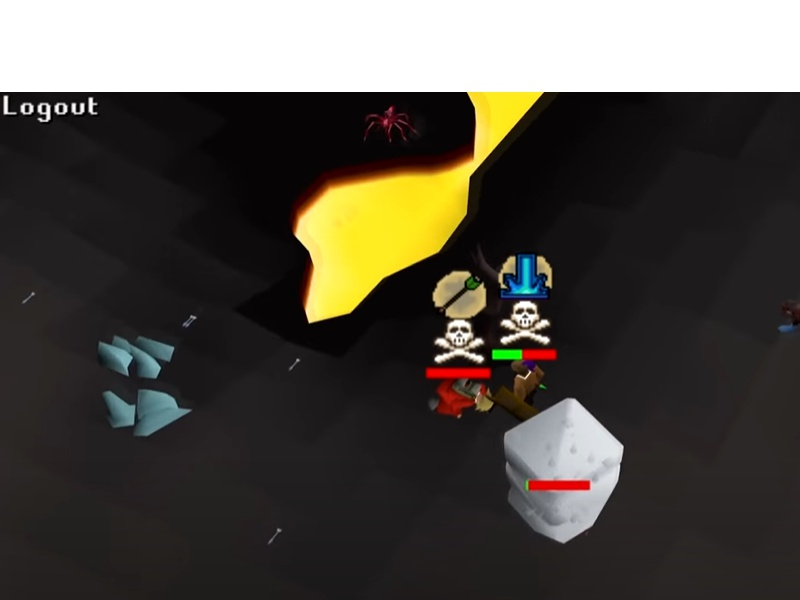rune: (95, 385, 198, 442), (95, 330, 178, 382)
